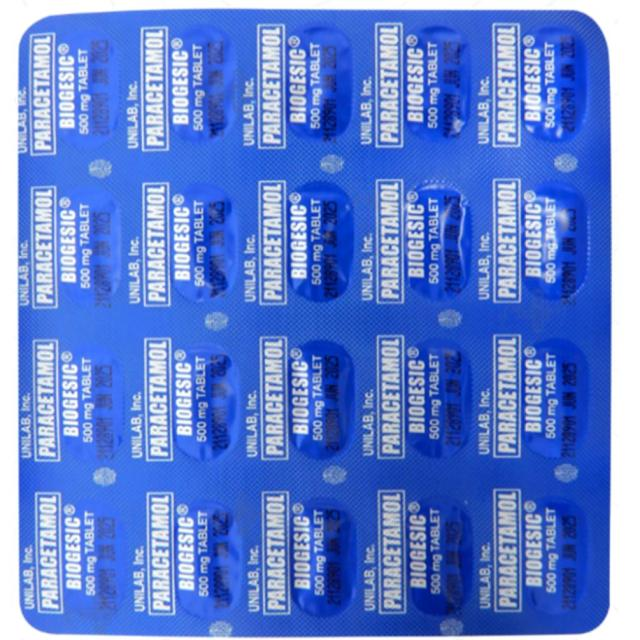blister: (14, 5, 616, 639)
